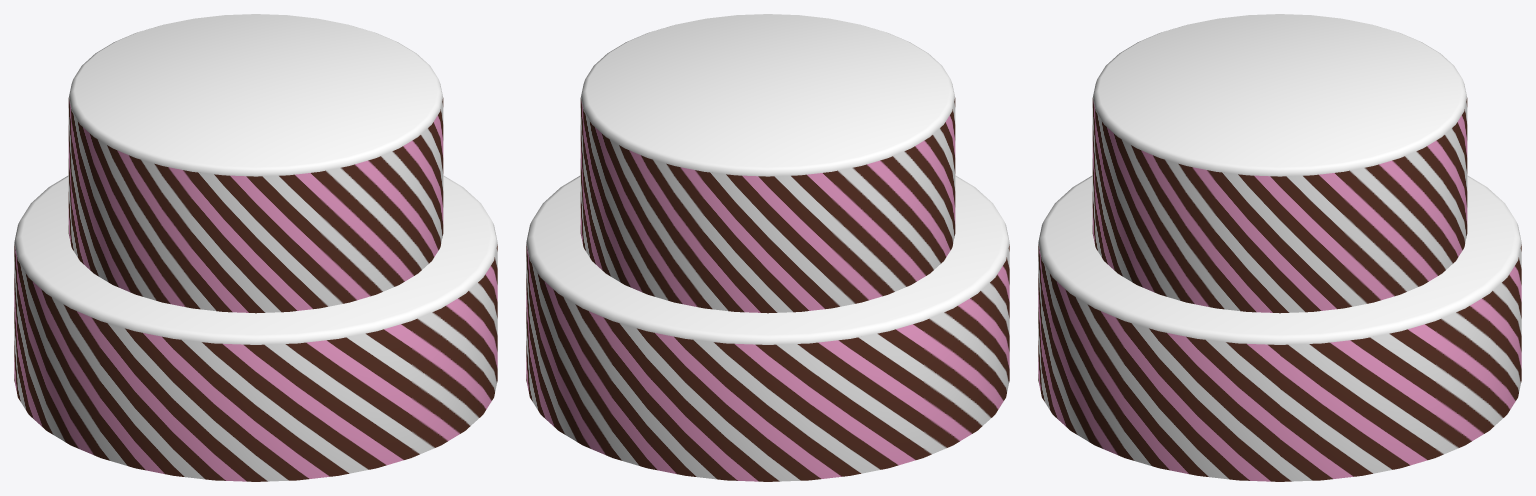
File: Cake_2Tiersfix.fbx
3 renders of one model, left to right at view 1: azimuth 30°, elevation 25°; view 2: azimuth 150°, elevation 25°; view 3: azimuth 270°, elevation 25°, orthographic.
Parts seen in each view (by area): view 1: Cake_Med, Cake_Lrg; view 2: Cake_Med, Cake_Lrg; view 3: Cake_Med, Cake_Lrg.
Part boxes in pixels (x1=…): Cake_Med: x1=68, y1=14, x2=443, y2=313; Cake_Lrg: x1=14, y1=175, x2=497, y2=481; Cake_Med: x1=580, y1=14, x2=955, y2=313; Cake_Lrg: x1=526, y1=175, x2=1009, y2=481; Cake_Med: x1=1092, y1=14, x2=1467, y2=313; Cake_Lrg: x1=1038, y1=175, x2=1521, y2=481.
Bounding box in the file's own units: 24059 × 15875 × 24059.
